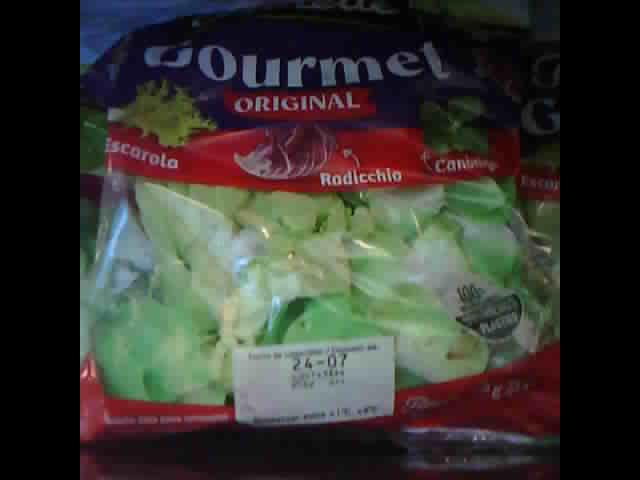florette: (81, 7, 560, 446)
